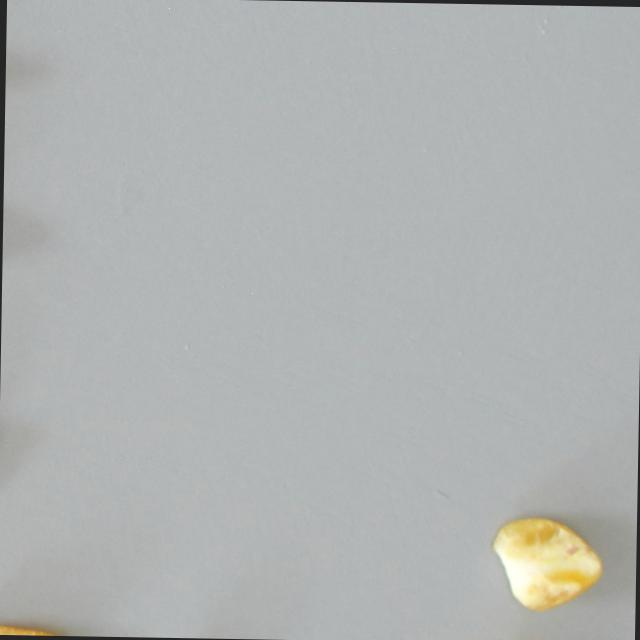dañado: (489, 512, 608, 616)
punto_negro: (0, 619, 78, 636)
